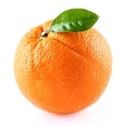orange: (13, 5, 117, 115)
